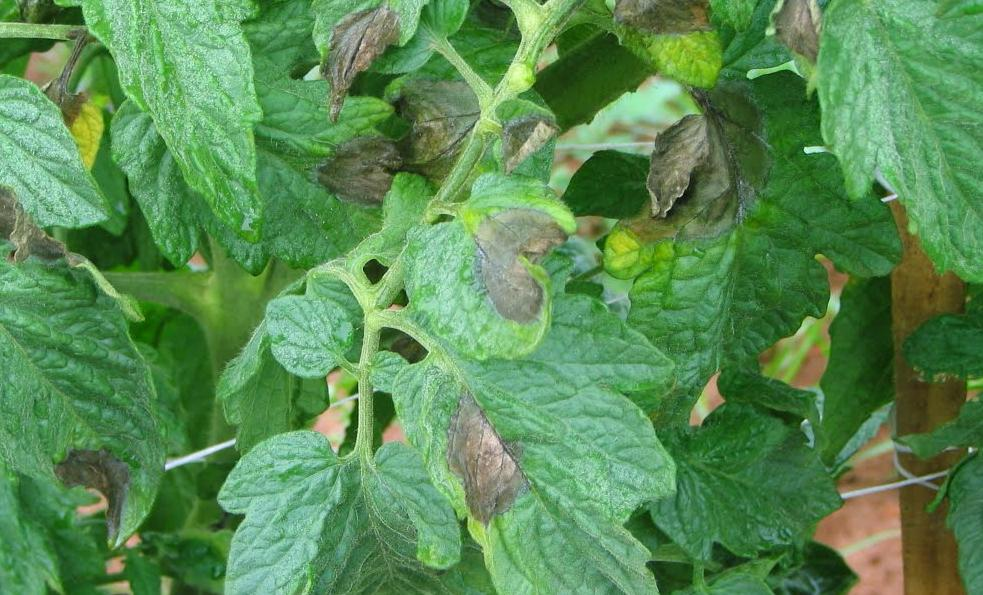Tomato leaf late blight: (619, 45, 907, 409), (387, 288, 681, 595), (400, 187, 577, 360), (606, 0, 731, 104), (319, 0, 439, 107)
